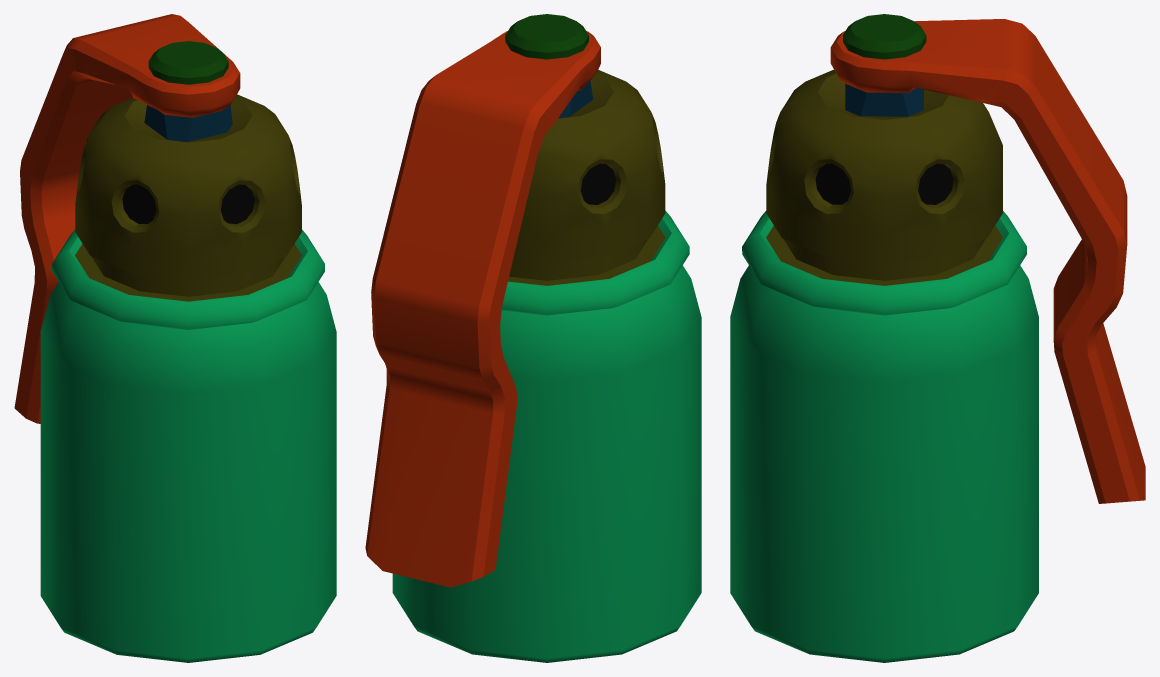
The model's file is gasgrenade_projectile.fbx.
3 views of the same model, side by side, from view 1: azimuth 30°, elevation 25°; view 2: azimuth 150°, elevation 25°; view 3: azimuth 270°, elevation 25° (orthographic). The views are drawn at different scales.
Visible parts, largest first — view 1: gas_spray; view 2: gas_spray; view 3: gas_spray.
Part boxes in pixels (x1=…): gas_spray: x1=14, y1=14, x2=336, y2=662; gas_spray: x1=365, y1=14, x2=701, y2=662; gas_spray: x1=730, y1=14, x2=1145, y2=662.
Bounding box in the file's own units: 6.56 × 13.43 × 8.83.
